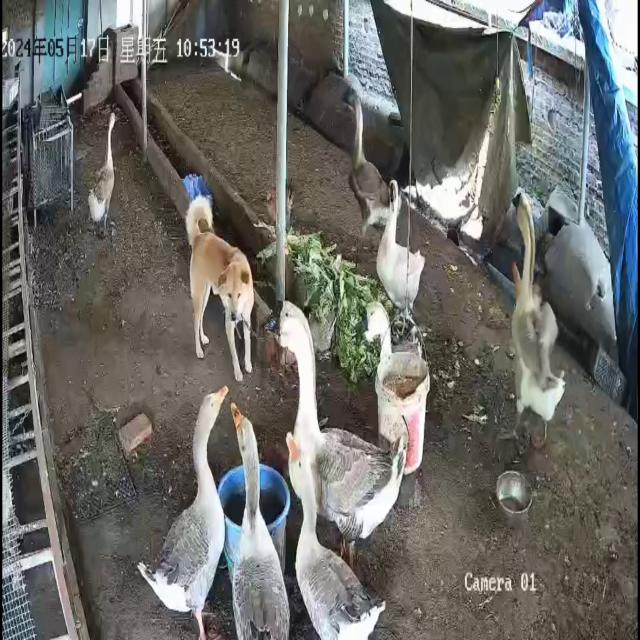dog: (186, 194, 256, 384)
